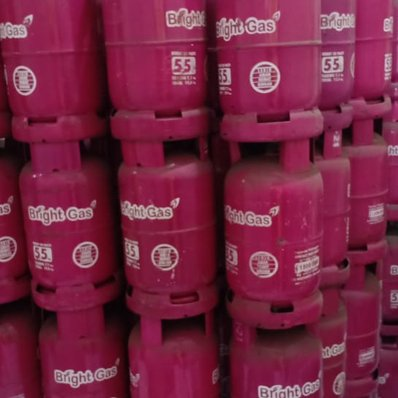bright_gas: (223, 141, 324, 329), (118, 137, 220, 317), (20, 141, 119, 309), (1, 1, 104, 141), (105, 2, 211, 138), (217, 1, 321, 137), (124, 315, 223, 398), (38, 308, 126, 398), (229, 319, 327, 398), (312, 130, 352, 287), (350, 119, 387, 259), (1, 143, 28, 304), (321, 1, 355, 127), (358, 1, 393, 123), (348, 265, 384, 382), (1, 308, 40, 398), (321, 278, 348, 398)
